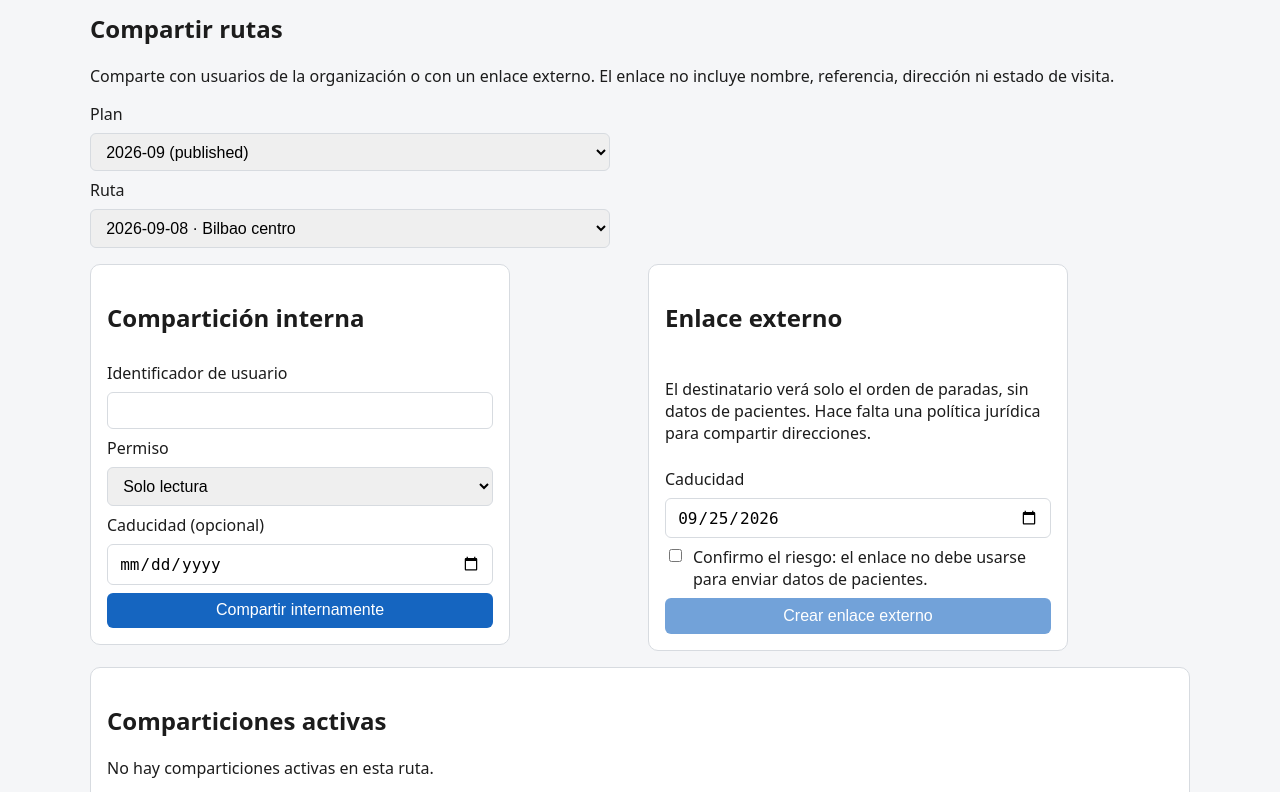
Test: SharingPage (4.FE.2) › crea un enlace externo, muestra la vista minimizada y lo revoca
The width and height of the screenshot is (1280, 792).
Expected: the text "No hay comparticiones activas en esta ruta." is shown, [107,757,434,779]
Expected: the button with test id "share-external-submit" is disabled, [665,598,1051,634]
What coordinates should you click on to do the following:
click the checkbox with test id "share-risk"
I would click on:
 (676, 556)
Its box is [669,549,682,562].
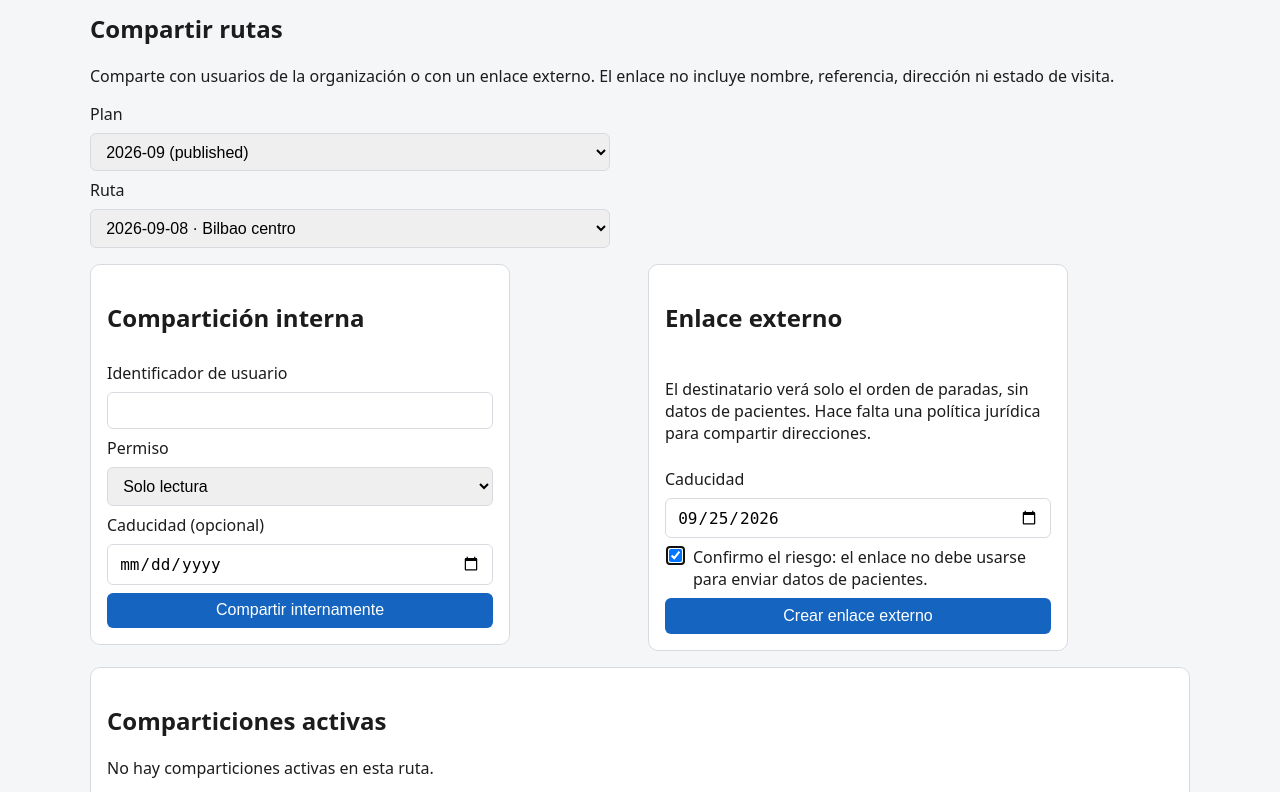
Now the button with test id "share-external-submit" is enabled
What coordinates should you click on to do the following:
click the button with test id "share-external-submit"
I would click on:
 (858, 616)
Its box is [665,598,1051,634].
(page scrolled)
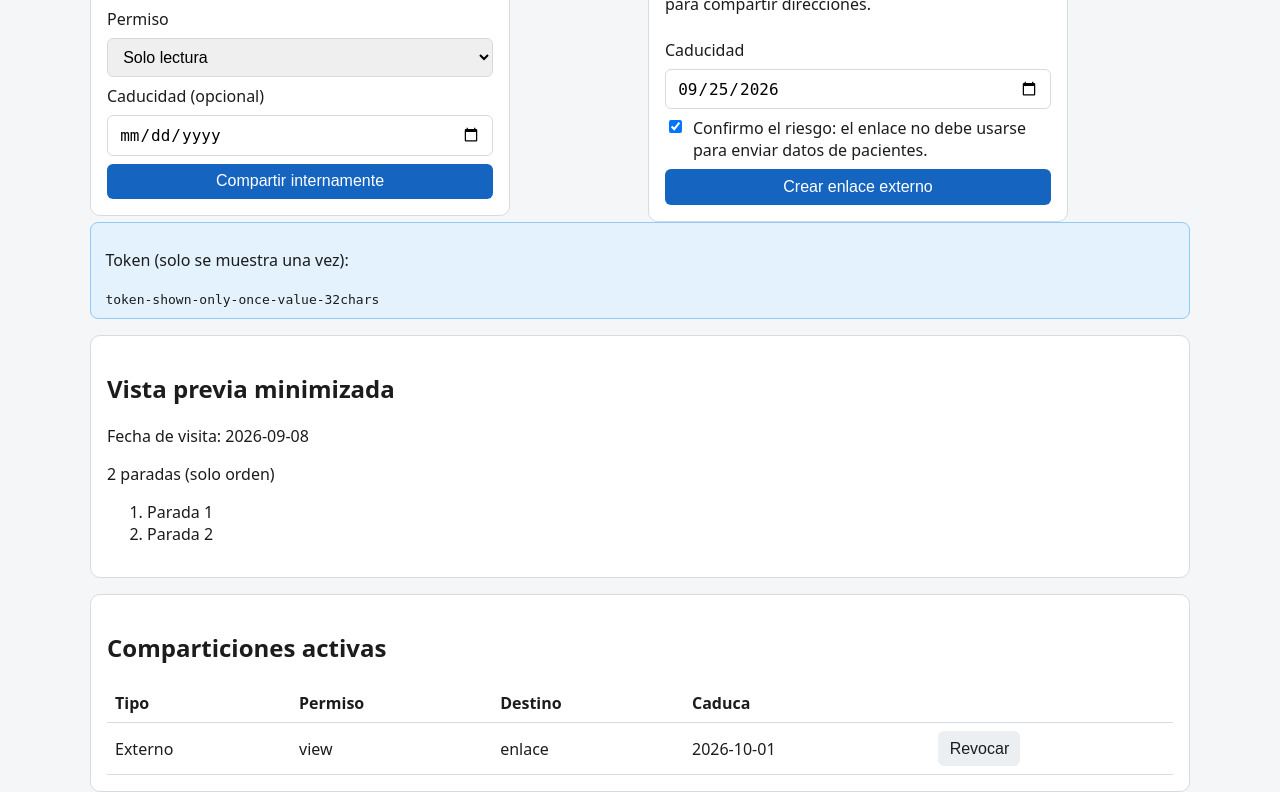
Now the text with test id "share-token" reads "token-shown-only-once-value-32chars", box [105,292,379,307]
Now the element with test id "share-preview" is shown, box [90,335,1190,578]
Now the list with test id "share-preview-stops" shows "Parada 1", box [147,501,213,545]
What coordinates should you click on to do the following:
click the button with test id "share-revoke-grant-ext-1"
I would click on:
 (979, 749)
Its box is [938,731,1020,766].
(page scrolled)
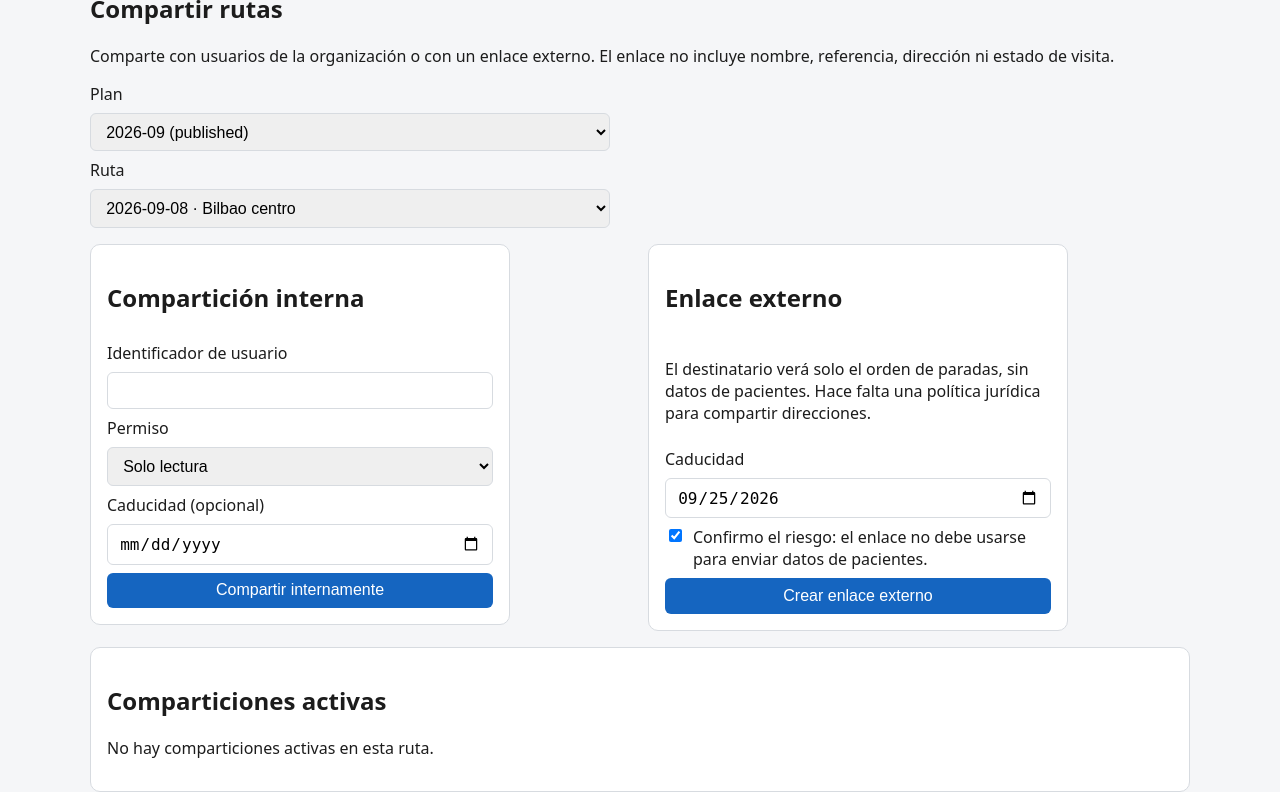
Now the text "No hay comparticiones activas en esta ruta." is shown, box [107,737,434,759]
